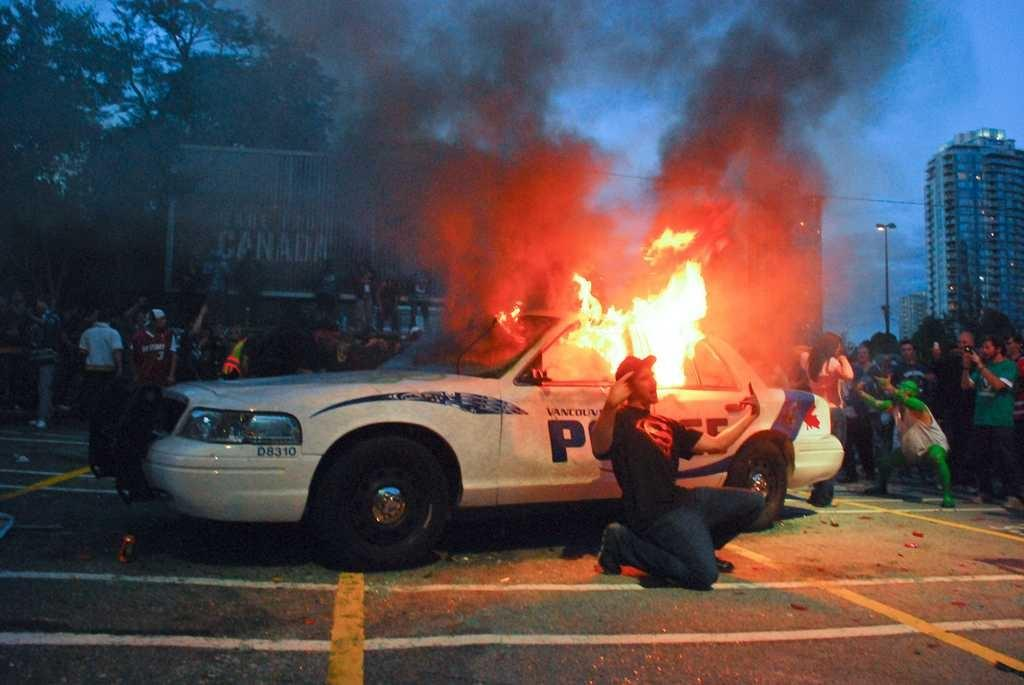fire: (647, 297, 695, 373)
smoke: (453, 163, 587, 297), (688, 55, 798, 168)
